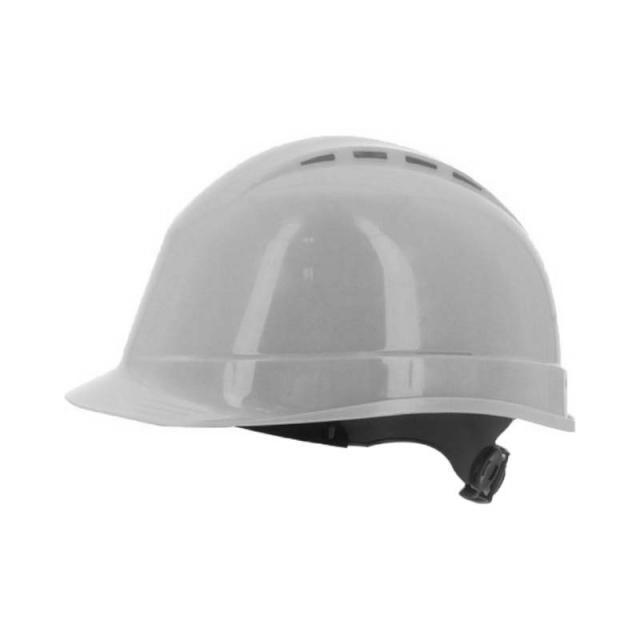safety_helmet: (62, 136, 578, 505)
